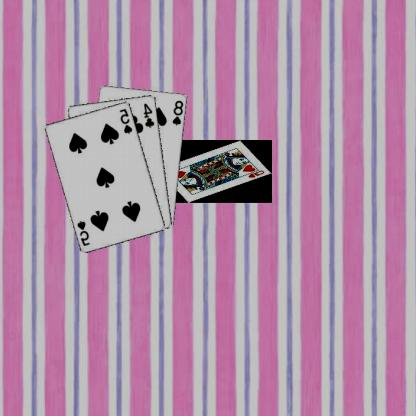4C: (143, 101, 157, 128)
5S: (76, 218, 93, 246), (119, 106, 135, 134)
8S: (172, 98, 186, 127)
